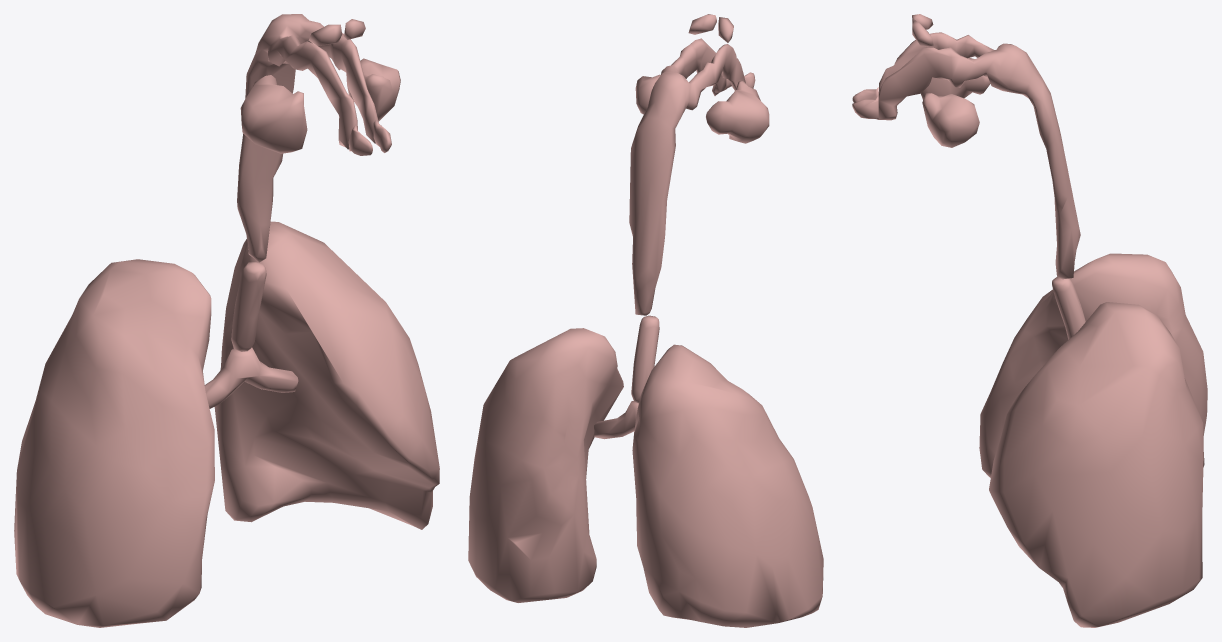
Rendered from pediatric_child_5y_female.respiratory.LOD2.glb.
The picture shows the model from 3 angles, left to right: view 1: azimuth 30°, elevation 25°; view 2: azimuth 150°, elevation 25°; view 3: azimuth 270°, elevation 25°; orthographic projection. The views are drawn at different scales.
Parts seen in each view (by area): view 1: PEDIATRIC.CHILD_5Y.FEMALE.RESPIRATORY.LUNG.R, PEDIATRIC.CHILD_5Y.FEMALE.RESPIRATORY.LUNG.L, PEDIATRIC.CHILD_5Y.FEMALE.RESPIRATORY.ET2, PEDIATRIC.CHILD_5Y.FEMALE.RESPIRATORY.BB1, PEDIATRIC.CHILD_5Y.FEMALE.RESPIRATORY.TRACHEA, PEDIATRIC.CHILD_5Y.FEMALE.RESPIRATORY.ET1; view 2: PEDIATRIC.CHILD_5Y.FEMALE.RESPIRATORY.LUNG.R, PEDIATRIC.CHILD_5Y.FEMALE.RESPIRATORY.LUNG.L, PEDIATRIC.CHILD_5Y.FEMALE.RESPIRATORY.ET2, PEDIATRIC.CHILD_5Y.FEMALE.RESPIRATORY.TRACHEA, PEDIATRIC.CHILD_5Y.FEMALE.RESPIRATORY.BB1; view 3: PEDIATRIC.CHILD_5Y.FEMALE.RESPIRATORY.LUNG.L, PEDIATRIC.CHILD_5Y.FEMALE.RESPIRATORY.ET2, PEDIATRIC.CHILD_5Y.FEMALE.RESPIRATORY.LUNG.R, PEDIATRIC.CHILD_5Y.FEMALE.RESPIRATORY.TRACHEA, PEDIATRIC.CHILD_5Y.FEMALE.RESPIRATORY.ET1.
Part boxes in pixels (x1=…): PEDIATRIC.CHILD_5Y.FEMALE.RESPIRATORY.LUNG.R: x1=14, y1=259, x2=214, y2=627; PEDIATRIC.CHILD_5Y.FEMALE.RESPIRATORY.LUNG.L: x1=214, y1=221, x2=439, y2=529; PEDIATRIC.CHILD_5Y.FEMALE.RESPIRATORY.ET2: x1=237, y1=14, x2=400, y2=262; PEDIATRIC.CHILD_5Y.FEMALE.RESPIRATORY.BB1: x1=204, y1=347, x2=298, y2=408; PEDIATRIC.CHILD_5Y.FEMALE.RESPIRATORY.TRACHEA: x1=231, y1=261, x2=266, y2=351; PEDIATRIC.CHILD_5Y.FEMALE.RESPIRATORY.ET1: x1=348, y1=120, x2=391, y2=155; PEDIATRIC.CHILD_5Y.FEMALE.RESPIRATORY.LUNG.R: x1=632, y1=344, x2=823, y2=627; PEDIATRIC.CHILD_5Y.FEMALE.RESPIRATORY.LUNG.L: x1=468, y1=328, x2=623, y2=602; PEDIATRIC.CHILD_5Y.FEMALE.RESPIRATORY.ET2: x1=629, y1=14, x2=769, y2=315; PEDIATRIC.CHILD_5Y.FEMALE.RESPIRATORY.TRACHEA: x1=631, y1=315, x2=659, y2=403; PEDIATRIC.CHILD_5Y.FEMALE.RESPIRATORY.BB1: x1=594, y1=401, x2=638, y2=439; PEDIATRIC.CHILD_5Y.FEMALE.RESPIRATORY.LUNG.L: x1=989, y1=302, x2=1203, y2=627; PEDIATRIC.CHILD_5Y.FEMALE.RESPIRATORY.ET2: x1=878, y1=14, x2=1080, y2=279; PEDIATRIC.CHILD_5Y.FEMALE.RESPIRATORY.LUNG.R: x1=979, y1=253, x2=1207, y2=477; PEDIATRIC.CHILD_5Y.FEMALE.RESPIRATORY.TRACHEA: x1=1052, y1=277, x2=1085, y2=339; PEDIATRIC.CHILD_5Y.FEMALE.RESPIRATORY.ET1: x1=852, y1=87, x2=878, y2=119.
Size of the model in its own units: 0.172 by 0.2591 by 0.1557.
